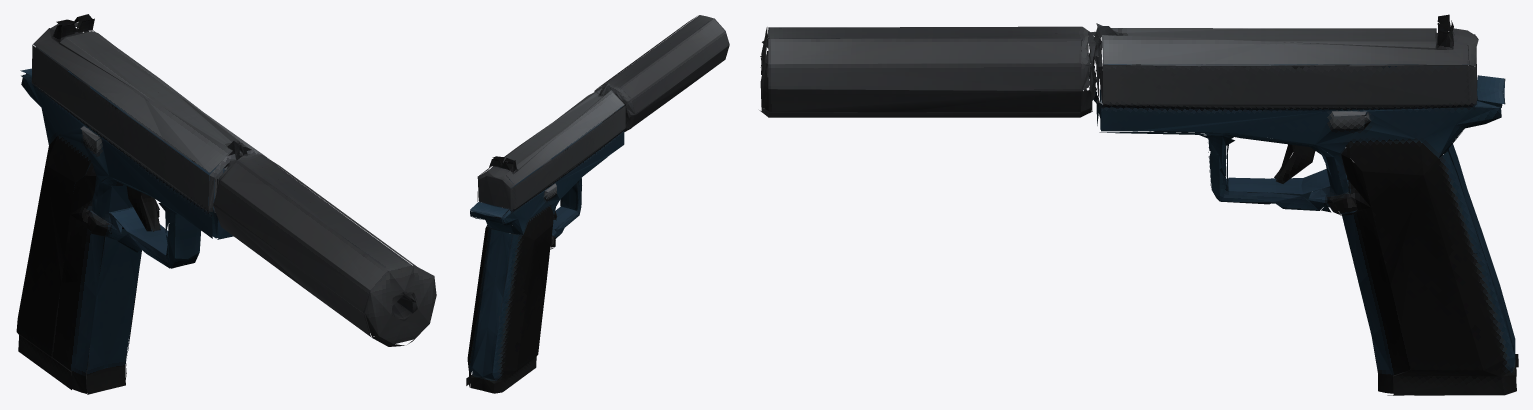
Rendered from pistol.glb.
The picture shows the model from 3 angles, left to right: view 1: azimuth 30°, elevation 25°; view 2: azimuth 150°, elevation 25°; view 3: azimuth 270°, elevation 25°; orthographic projection. The views are drawn at different scales.
Parts seen in each view (by area): view 1: geometry_0; view 2: geometry_0; view 3: geometry_0.
Boxes of the visible parts, x1,y1,x2,y2 form: geometry_0: [16, 14, 436, 394]; geometry_0: [466, 15, 729, 393]; geometry_0: [759, 14, 1518, 395].
Size of the model in its own units: 0.0652 by 0.2735 by 0.5202.
Materials: 1 (1 with a texture image).
